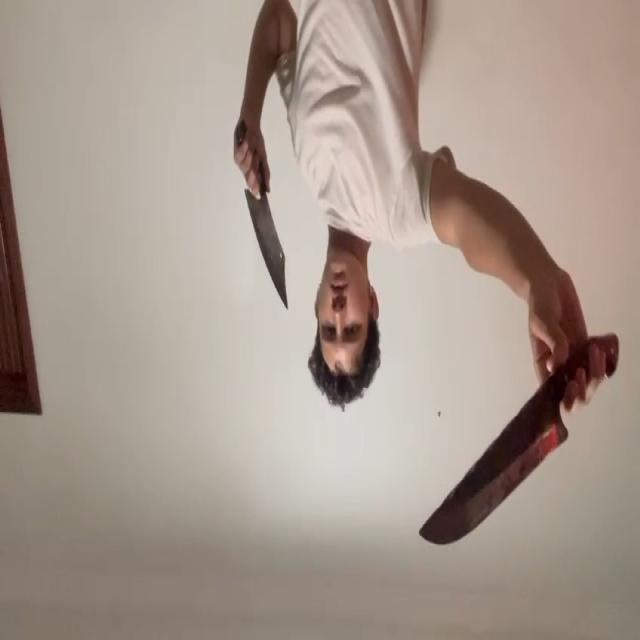knife: (420, 406, 568, 544), (246, 192, 288, 310)
